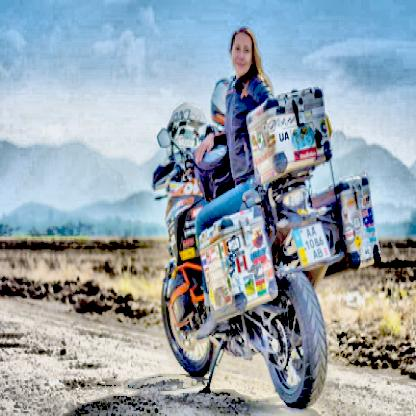not_wear: (229, 30, 260, 82)
